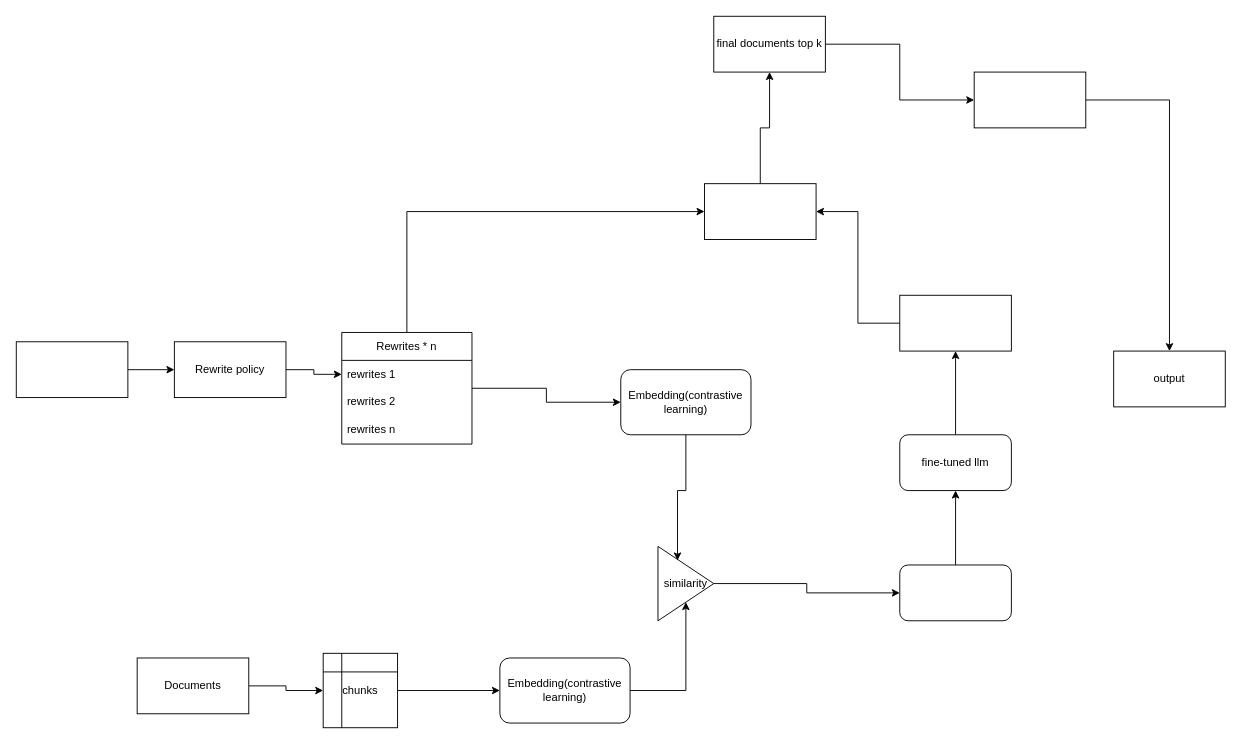
Image size: 1242x744. Some labels were removed from this diagram. Each missing label, with the centre of its shape:
"descriptions for each retrieved chunks" belongs at point (955, 322).
"fine-tuned llm for outputs" belongs at point (1029, 99).
"Original query" belongs at point (71, 369).
"reranker-top k" belongs at point (760, 211).
"Retrieved documents for all rewrites" belongs at point (955, 592).
